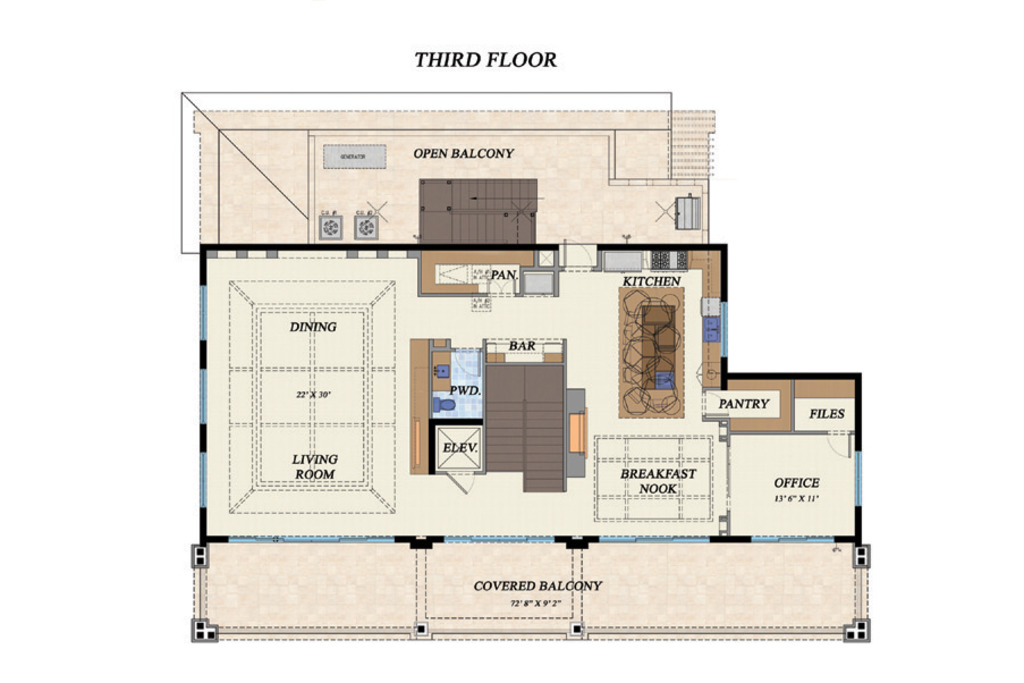door: (563, 236, 603, 275), (705, 389, 730, 420), (491, 279, 517, 297)
large_sink: (431, 387, 462, 421)
small_sink: (422, 362, 459, 383)
stairs: (479, 358, 571, 498), (417, 177, 548, 246)
twin_sink: (701, 319, 725, 343)
window: (197, 283, 213, 345), (194, 369, 211, 421), (853, 444, 864, 505), (200, 452, 209, 514)
